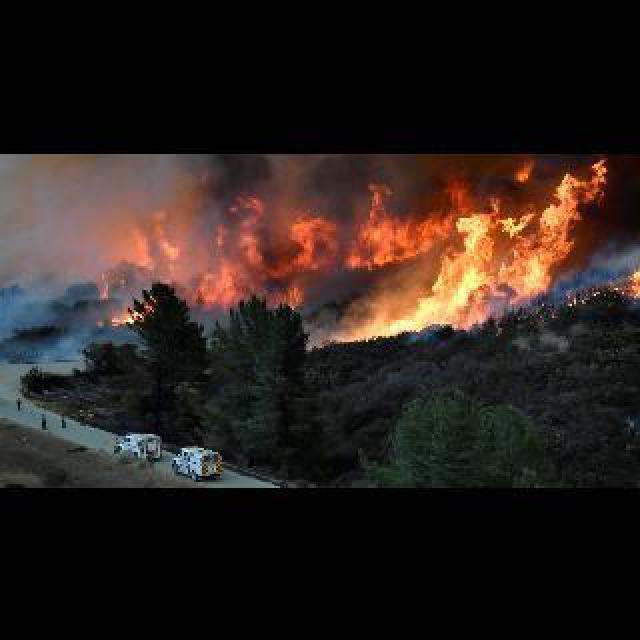fire: (3, 158, 100, 337), (2, 325, 160, 382)
smoke: (104, 160, 610, 346)
